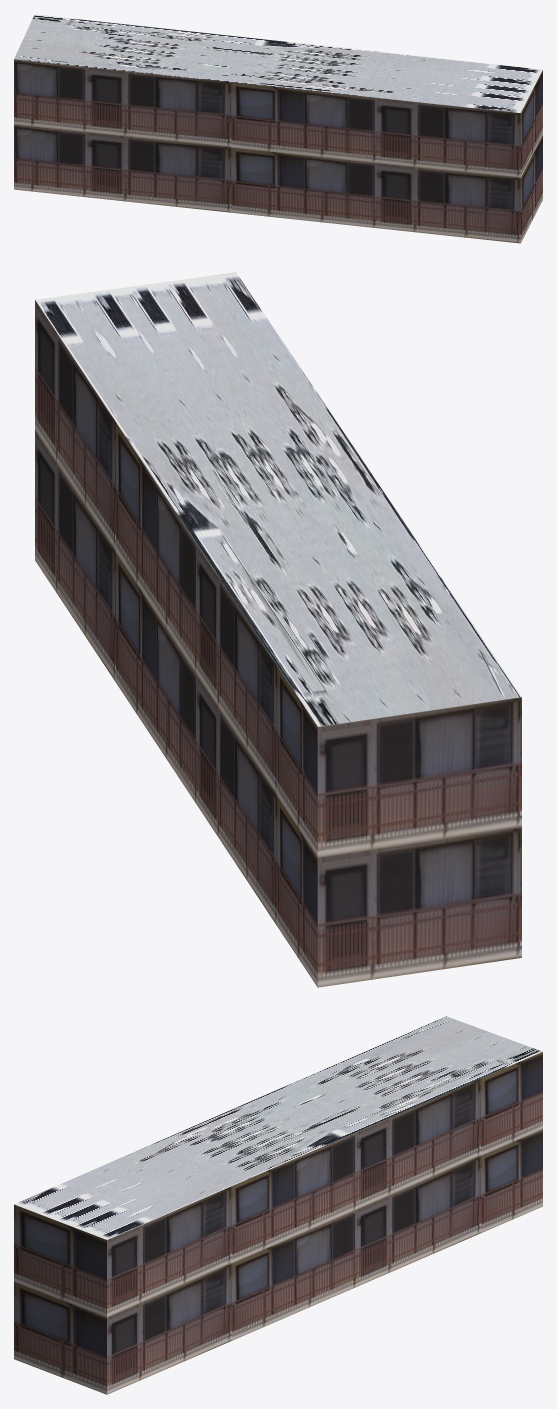
File: ResTex__1745.fbx
The picture shows the model from 3 angles, top to bottom: view 1: azimuth 30°, elevation 25°; view 2: azimuth 150°, elevation 25°; view 3: azimuth 270°, elevation 25°; orthographic projection. The views are drawn at different scales.
Visible parts, largest first — view 1: CityEngineMaterial_6_m, CityEngineMaterial_2_m; view 2: CityEngineMaterial_6_m, CityEngineMaterial_2_m; view 3: CityEngineMaterial_6_m, CityEngineMaterial_2_m.
Boxes of the visible parts, <box> form: CityEngineMaterial_6_m: <box>14,59,542,243</box>; CityEngineMaterial_2_m: <box>14,14,542,112</box>; CityEngineMaterial_6_m: <box>35,300,521,987</box>; CityEngineMaterial_2_m: <box>35,272,521,726</box>; CityEngineMaterial_6_m: <box>14,1052,542,1394</box>; CityEngineMaterial_2_m: <box>14,1016,542,1239</box>.
Size of the model in its own units: 18.61 by 6 by 18.58.
Materials: 2 (2 with a texture image).
